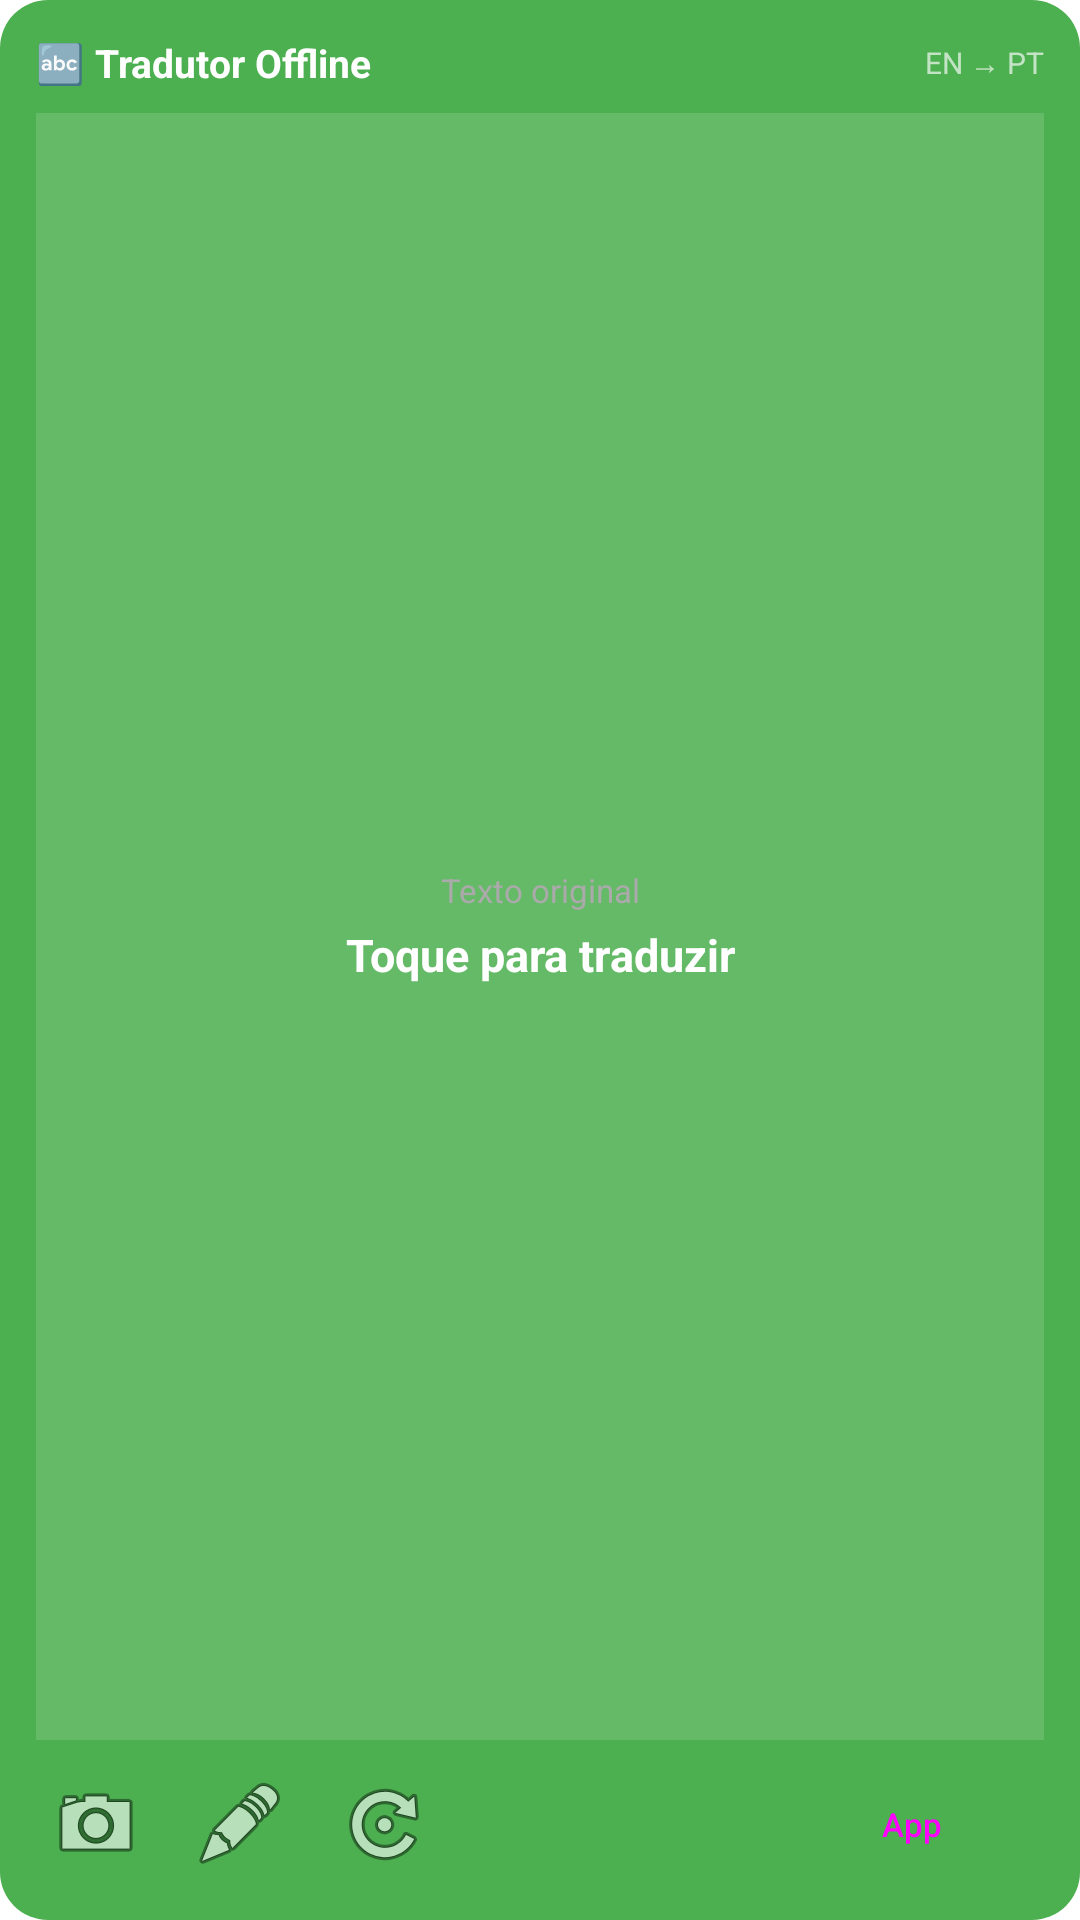

Where icons sit on this 1080px×1920px app screen, as (x1,y1,x2,y2):
Câmera: (59,1793,133,1852)
Texto: (199,1783,280,1864)
Trocar idiomas: (349,1789,419,1860)
